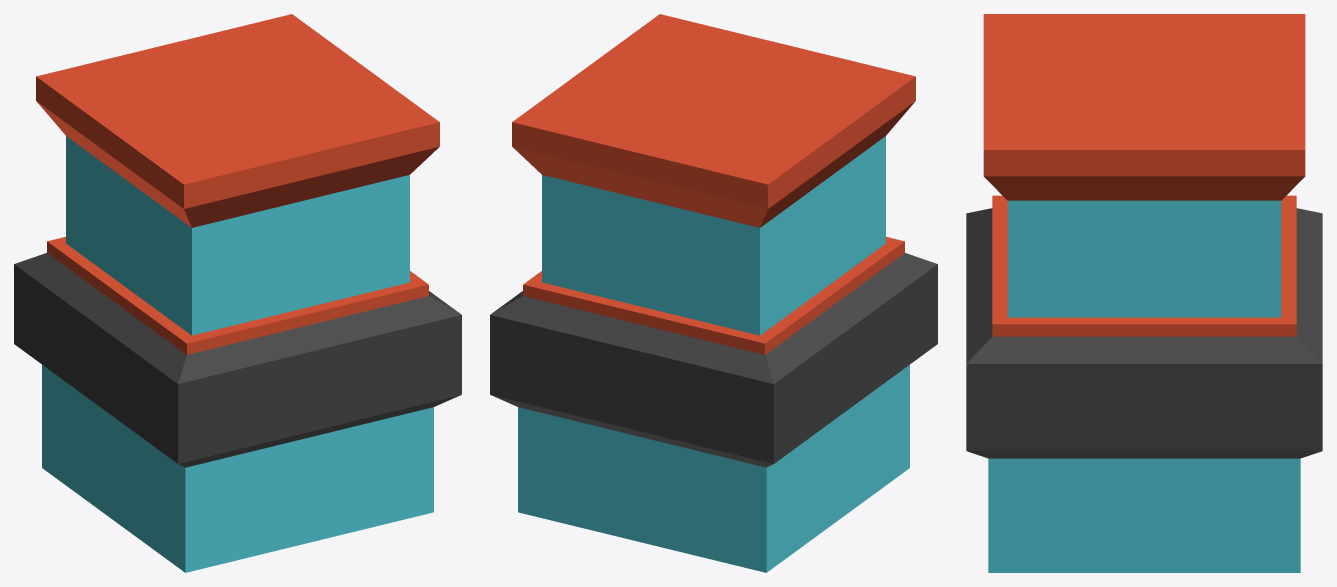
Rendered from SM_Building_003.fbx.
3 views of the same model, side by side, from view 1: azimuth 30°, elevation 25°; view 2: azimuth 150°, elevation 25°; view 3: azimuth 270°, elevation 25° (orthographic). The views are drawn at different scales.
Visible parts, largest first — view 1: SM_Building_003.001; view 2: SM_Building_003.001; view 3: SM_Building_003.001.
Part boxes in pixels (x1,y1,x2,y2): SM_Building_003.001: (14,14,461,572); SM_Building_003.001: (490,14,937,572); SM_Building_003.001: (966,14,1322,572).
Size of the model in its own units: 4 by 5.26 by 4.
